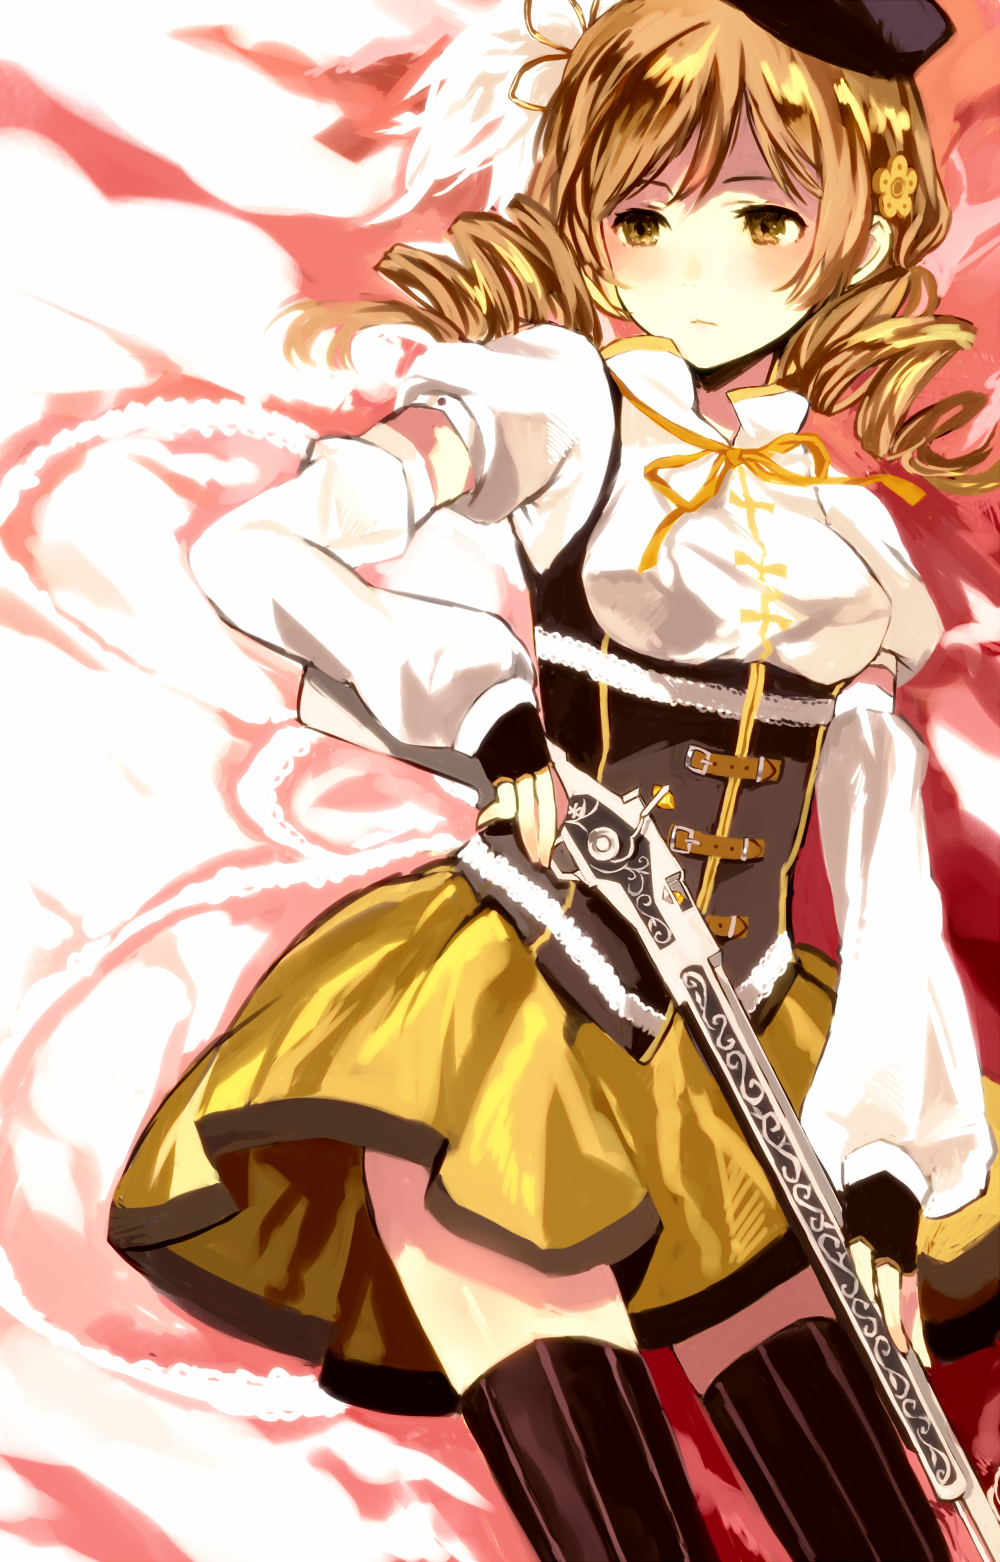纸片人正脸: (526, 2, 946, 385)
